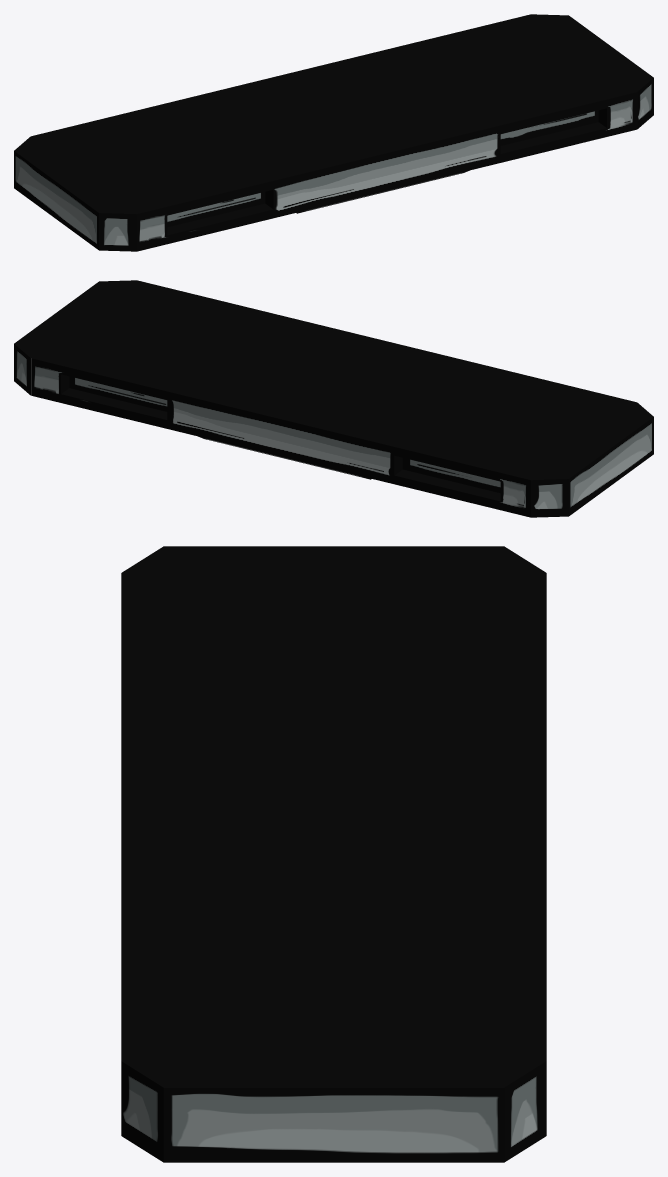
Rendered from prop _space_thuis.fbx.
3 views of the same model, one above another, from view 1: azimuth 30°, elevation 25°; view 2: azimuth 150°, elevation 25°; view 3: azimuth 270°, elevation 25° (orthographic). The views are drawn at different scales.
Visible parts, largest first — view 1: Cube; view 2: Cube; view 3: Cube.
Part boxes in pixels (x1=…): Cube: x1=14, y1=14, x2=653, y2=251; Cube: x1=14, y1=280, x2=653, y2=517; Cube: x1=121, y1=546, x2=546, y2=1162.
Size of the model in its own units: 403 by 31.34 by 134.
